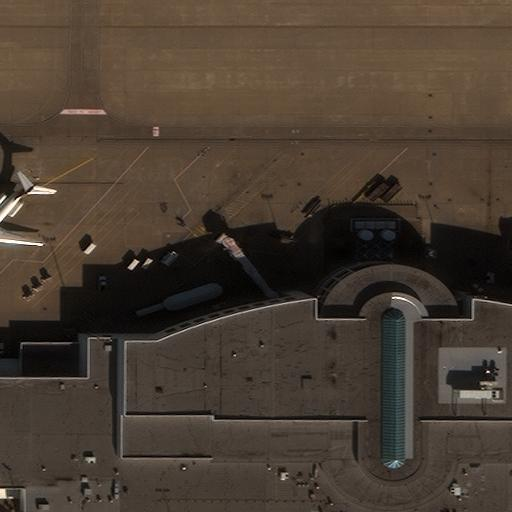Medium Civil Transport: (0, 183, 44, 262)
